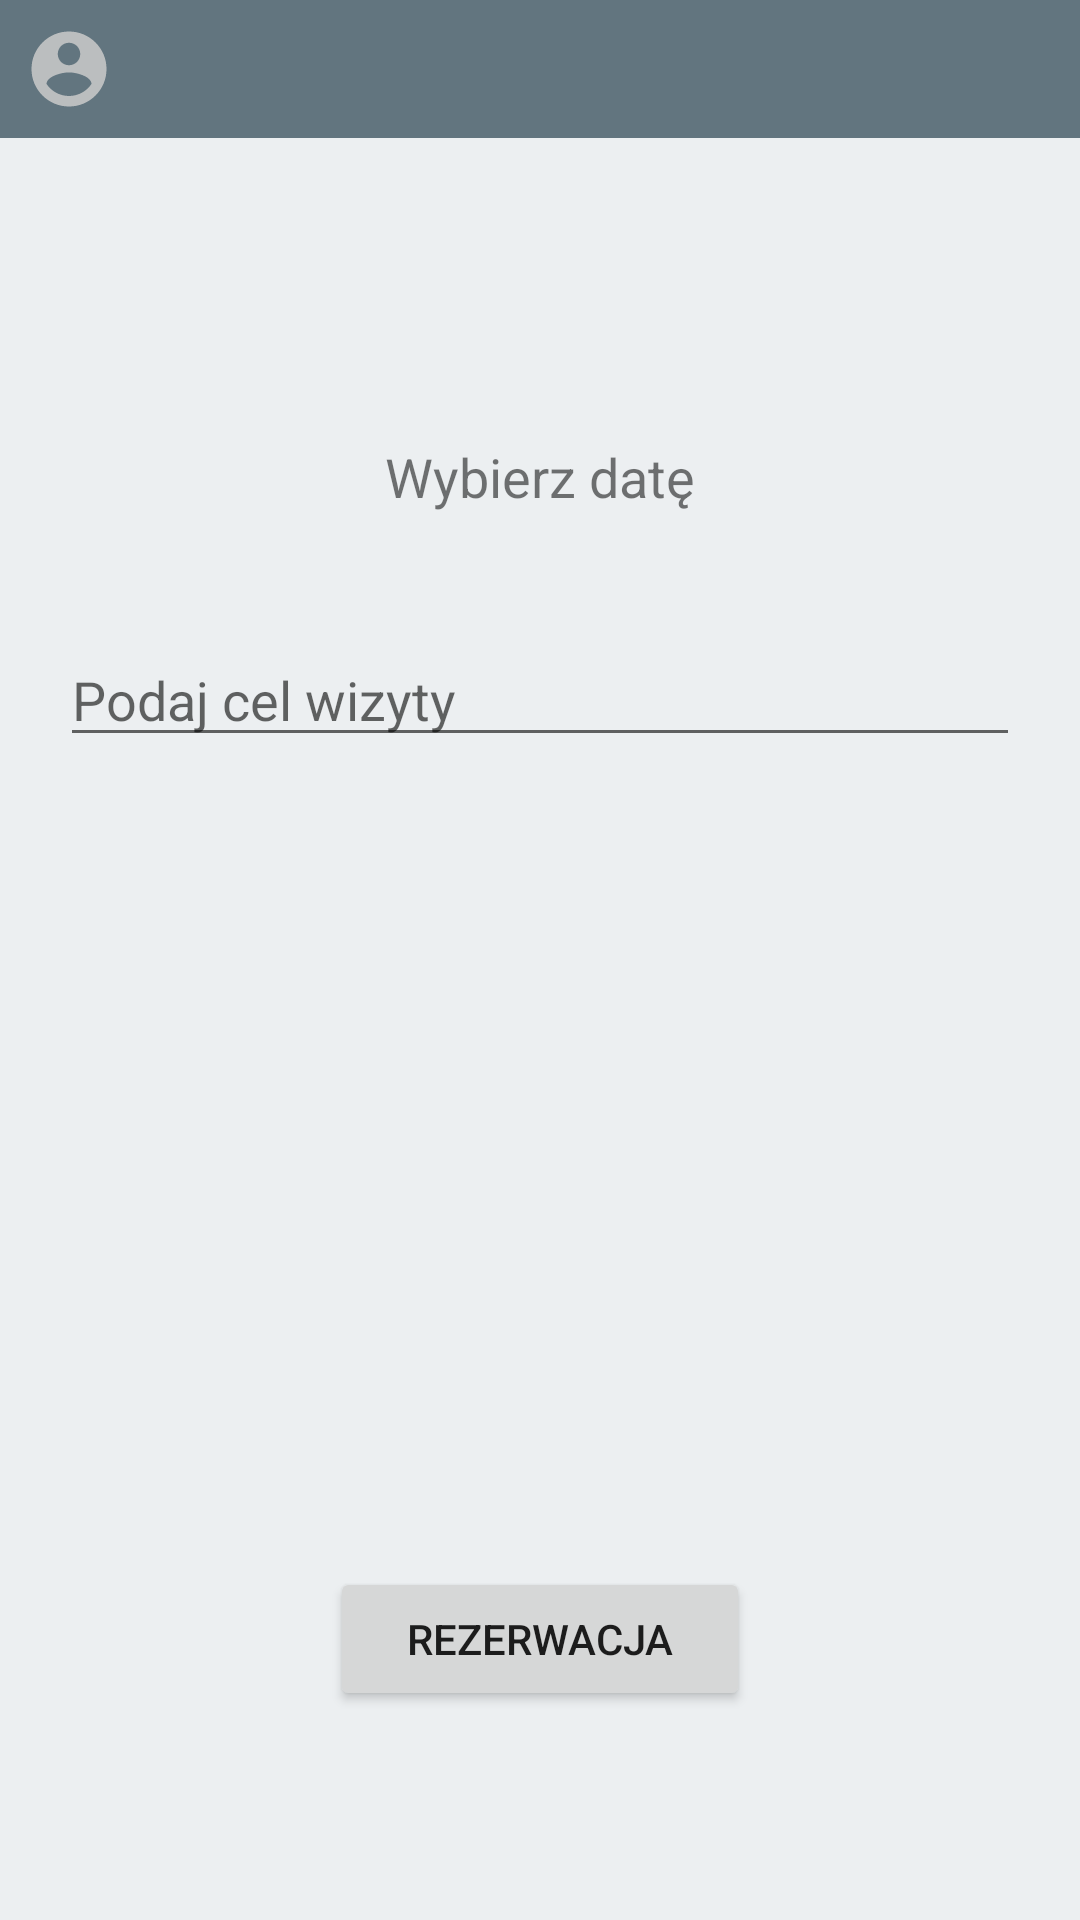

Screen size 1080w x 1920h. Icon name, then its box in pixels as (x1, y1, x2, y2):
account circle: (31, 31, 107, 107)
